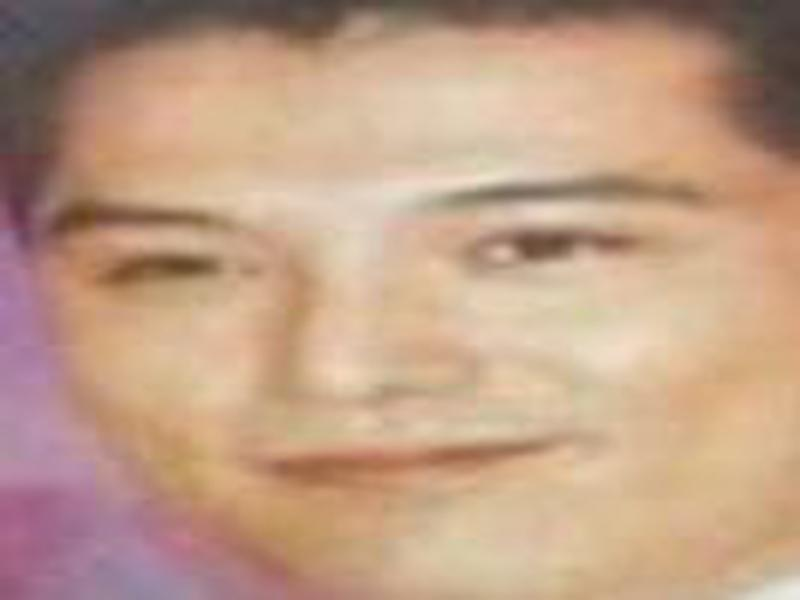without_mask: (38, 34, 795, 593)
